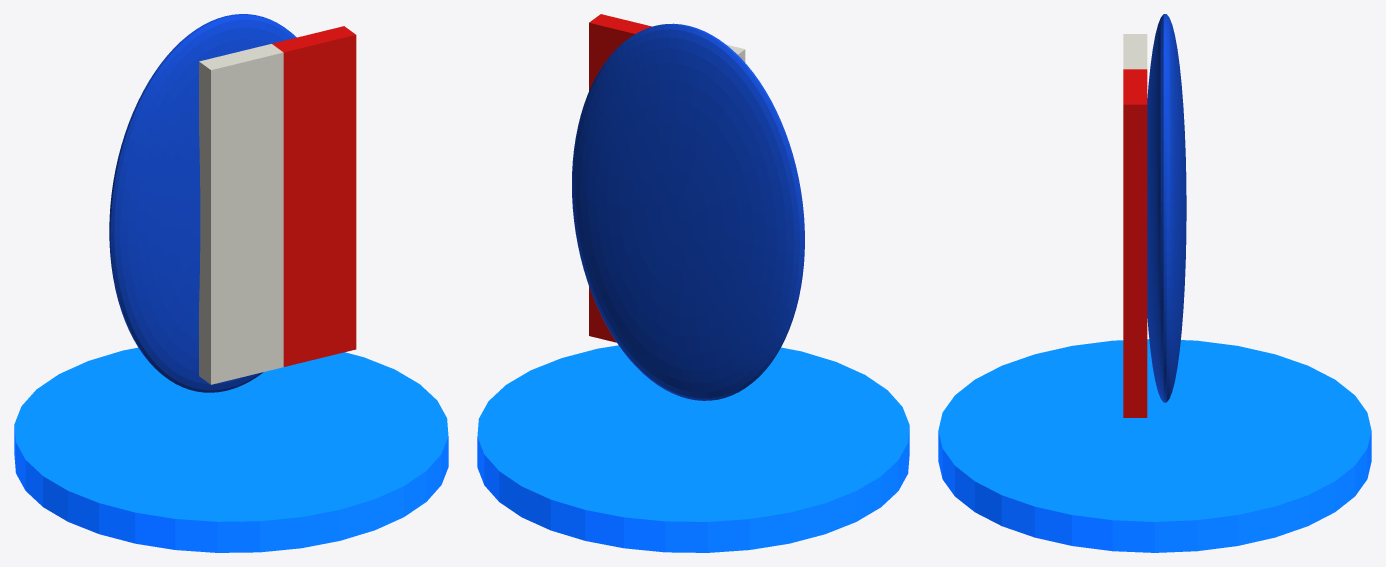
File: french_france_map.dae
3 renders of one model, left to right at view 1: azimuth 30°, elevation 25°; view 2: azimuth 150°, elevation 25°; view 3: azimuth 270°, elevation 25°, orthographic.
Parts seen in each view (by area): view 1: 10_19_Popular_French_France_Map_ROOT_base, 10_19_Popular_French_France_Map_part_01, 10_19_Popular_French_France_Map_part_02, 10_19_Popular_French_France_Map_part_03; view 2: 10_19_Popular_French_France_Map_ROOT_base, 10_19_Popular_French_France_Map_part_01, 10_19_Popular_French_France_Map_part_03; view 3: 10_19_Popular_French_France_Map_ROOT_base, 10_19_Popular_French_France_Map_part_01, 10_19_Popular_French_France_Map_part_03, 10_19_Popular_French_France_Map_part_02.
Boxes of the visible parts, x1,y1,x2,y2 form: 10_19_Popular_French_France_Map_ROOT_base: (14, 347, 448, 552); 10_19_Popular_French_France_Map_part_01: (109, 14, 296, 392); 10_19_Popular_French_France_Map_part_02: (199, 44, 283, 384); 10_19_Popular_French_France_Map_part_03: (272, 26, 356, 366); 10_19_Popular_French_France_Map_ROOT_base: (477, 345, 909, 552); 10_19_Popular_French_France_Map_part_01: (572, 23, 804, 400); 10_19_Popular_French_France_Map_part_03: (589, 14, 651, 342); 10_19_Popular_French_France_Map_ROOT_base: (938, 339, 1371, 552); 10_19_Popular_French_France_Map_part_01: (1147, 14, 1186, 402); 10_19_Popular_French_France_Map_part_03: (1123, 69, 1147, 417); 10_19_Popular_French_France_Map_part_02: (1123, 34, 1147, 69).
Size of the model in its own units: 0.76 by 0.85 by 0.76.
